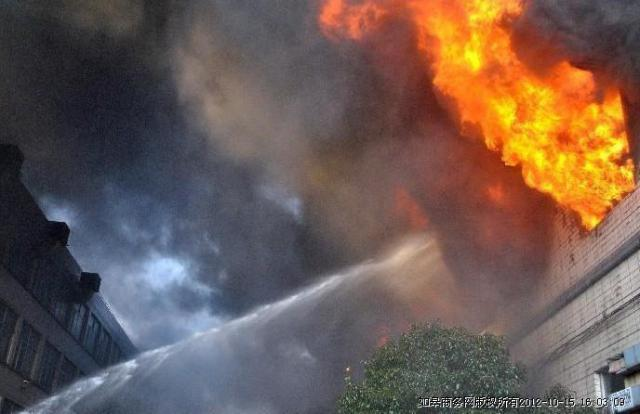fire: (441, 67, 592, 140), (412, 0, 520, 66), (592, 100, 636, 189), (508, 142, 594, 186), (324, 0, 392, 35), (566, 190, 608, 220)
